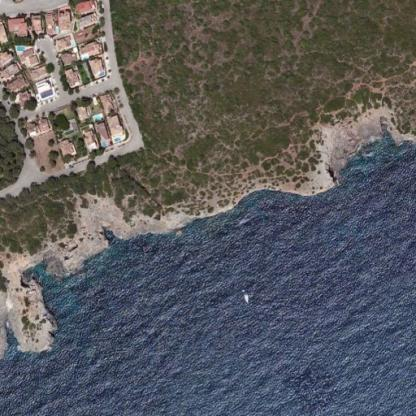ship: (234, 283, 254, 306)
